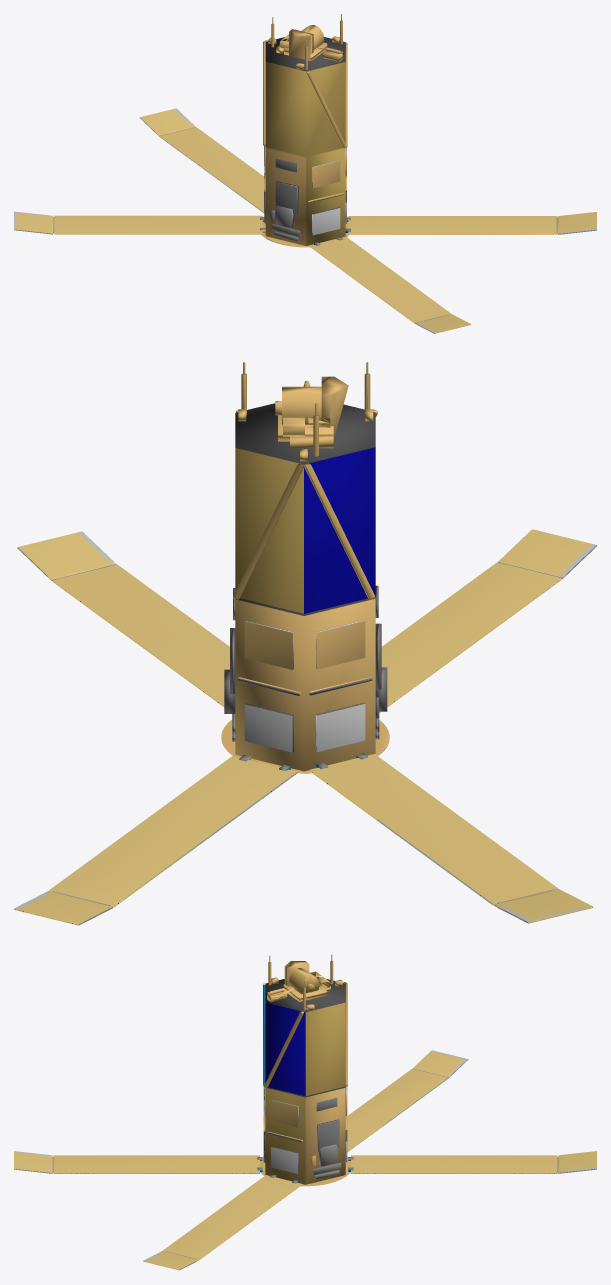
The model's file is sea-star.glb.
3 renders of one model, top to bottom at view 1: azimuth 30°, elevation 25°; view 2: azimuth 150°, elevation 25°; view 3: azimuth 270°, elevation 25°, orthographic. The views are drawn at different scales.
Visible parts, largest first — view 1: Fake; view 2: Fake; view 3: Fake.
Part boxes in pixels (x1,y1,x2,y2): Fake: (14,14,596,333); Fake: (14,362,596,925); Fake: (14,954,596,1270).
Size of the model in its own units: 195 by 83.71 by 219.
